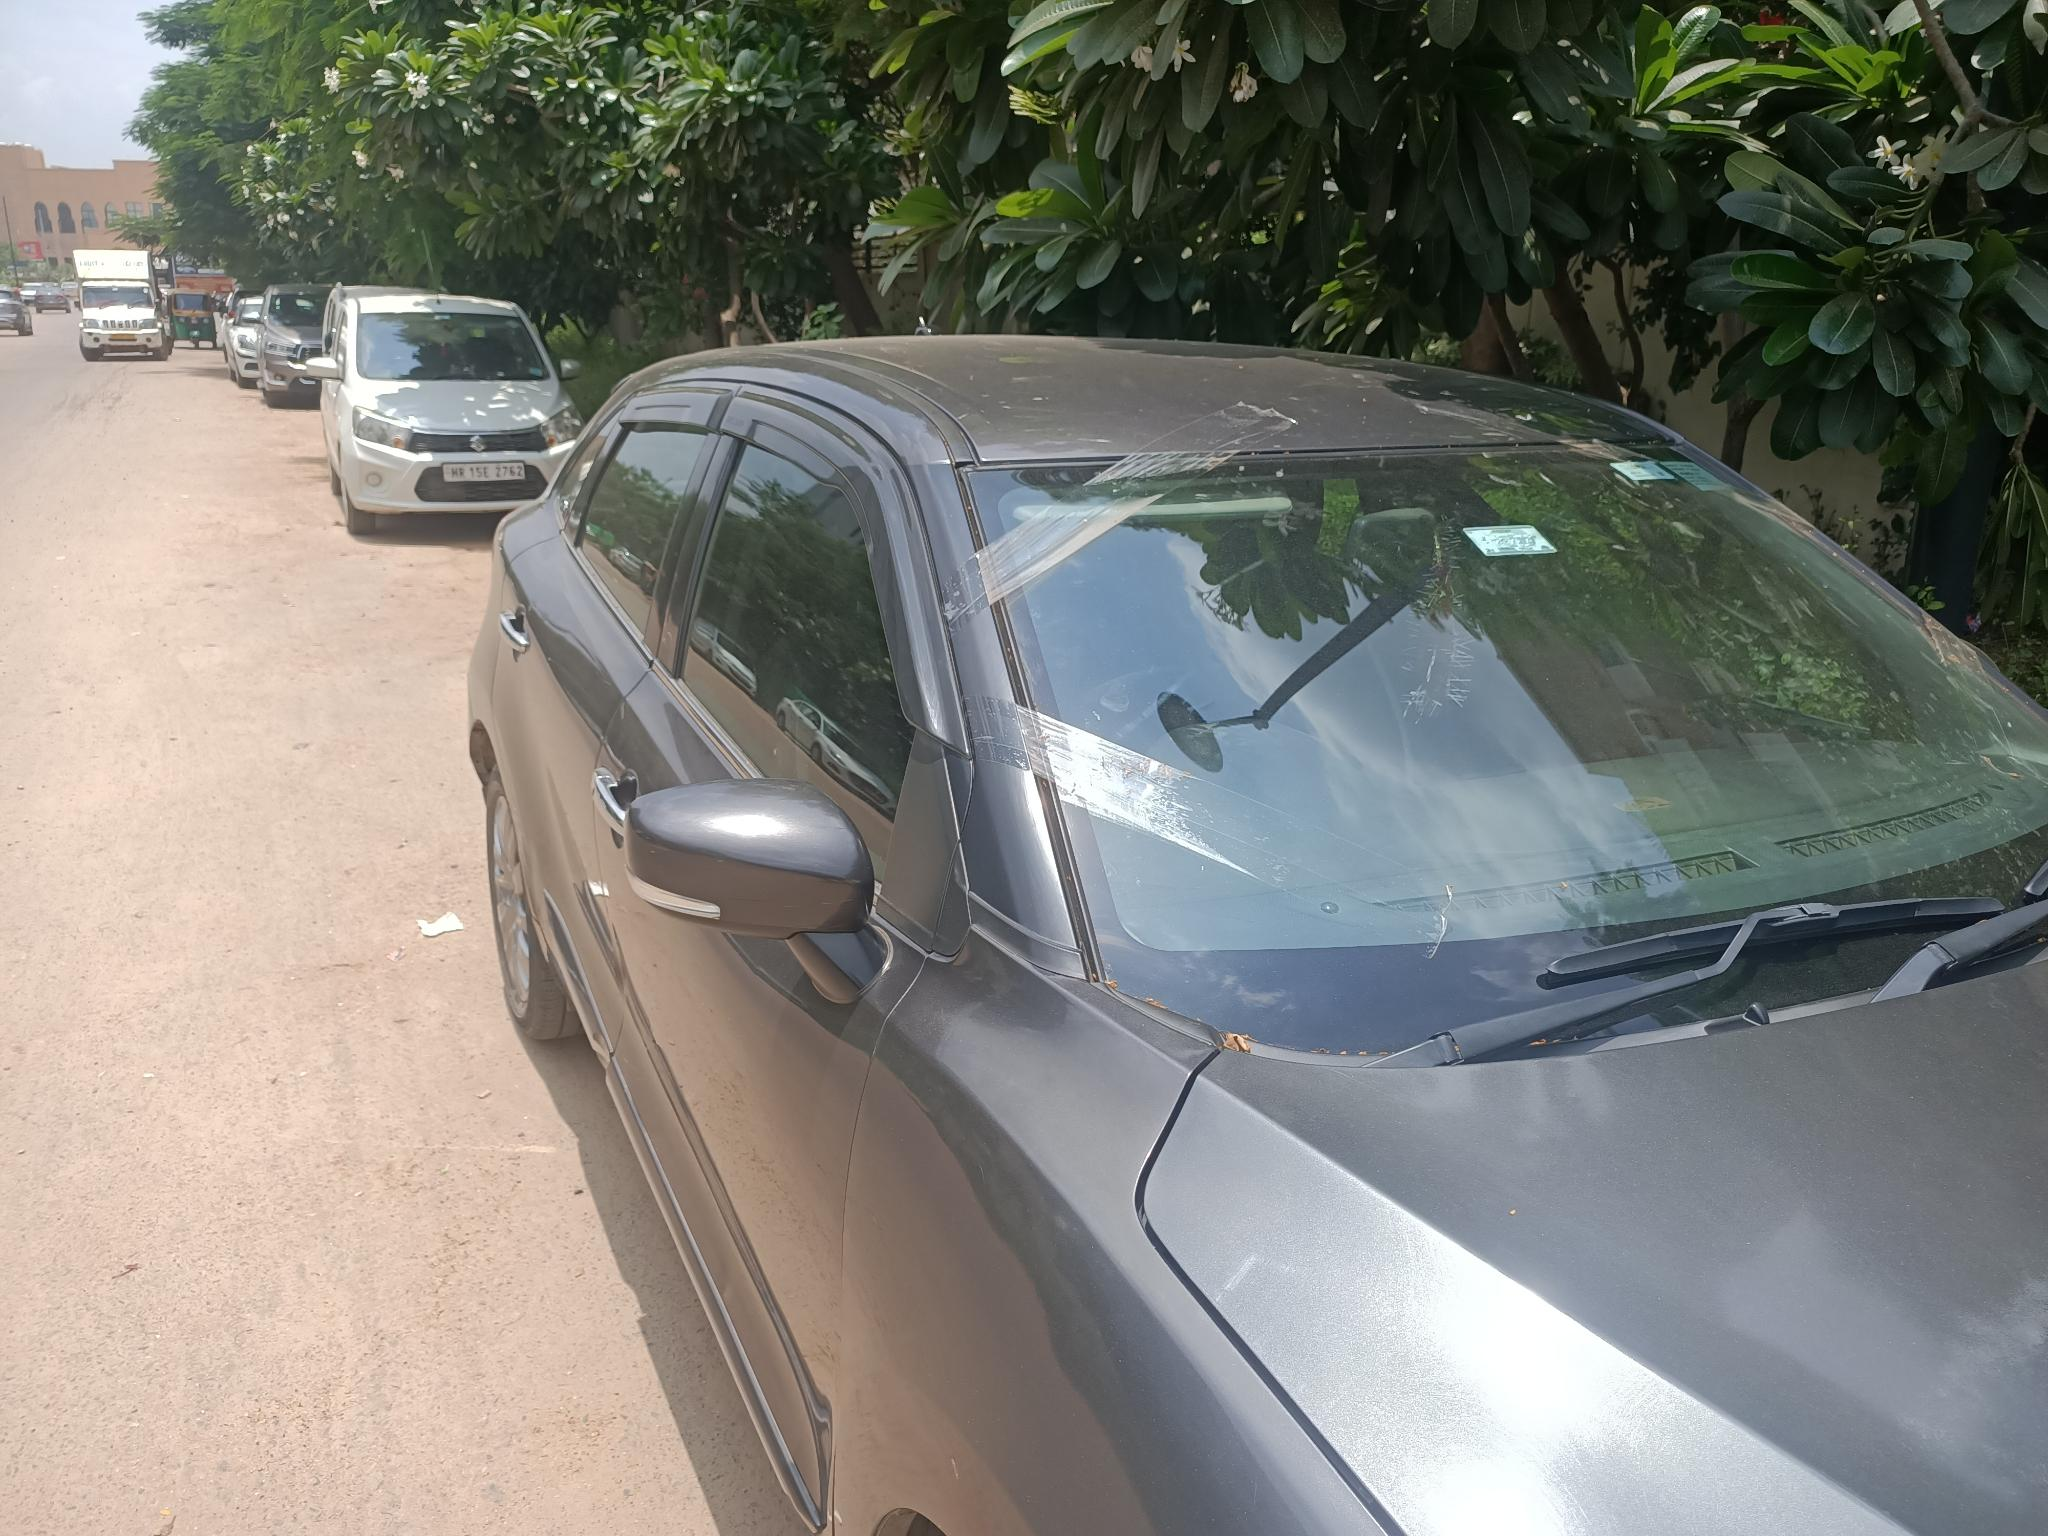FastTag: (1456, 511, 1566, 576)
not a FastTag: (1613, 449, 1737, 502)
